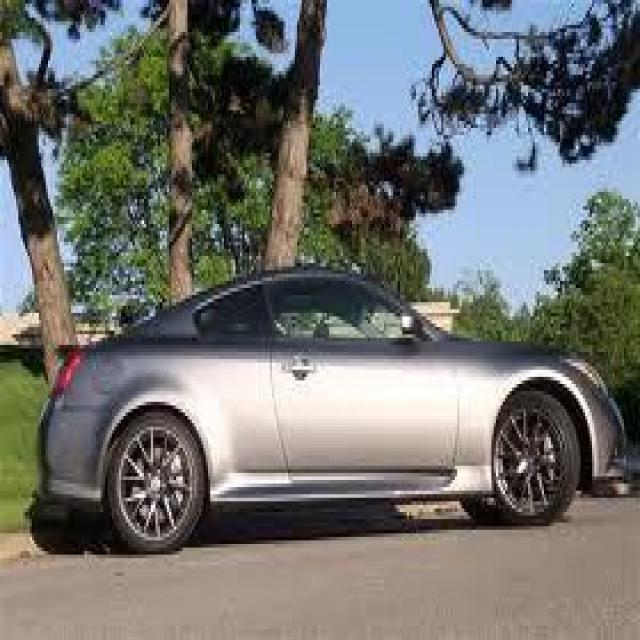car: (36, 268, 628, 555)
